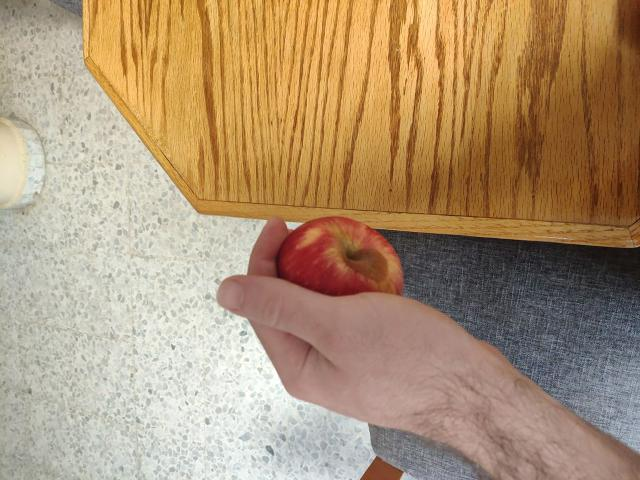apple: (268, 212, 404, 321)
